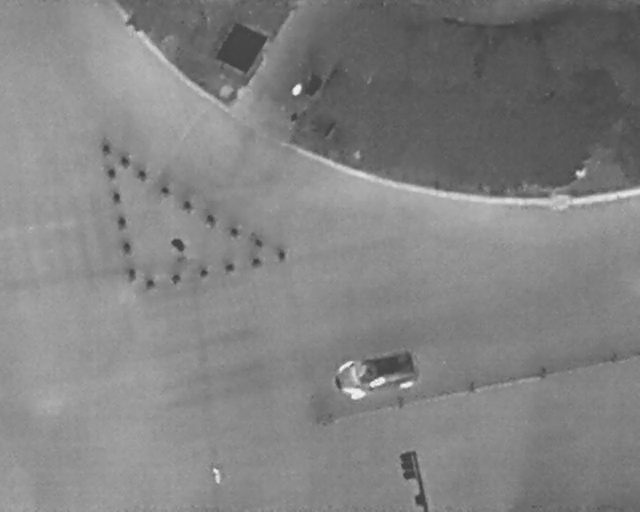Car: (330, 345, 424, 403)
Person: (211, 465, 223, 485)
